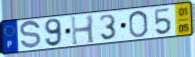3: (99, 13, 118, 41)
5: (153, 7, 173, 36)
9: (44, 17, 64, 47)
H: (70, 14, 97, 47)
O: (127, 9, 149, 39)
S: (19, 19, 43, 51)
